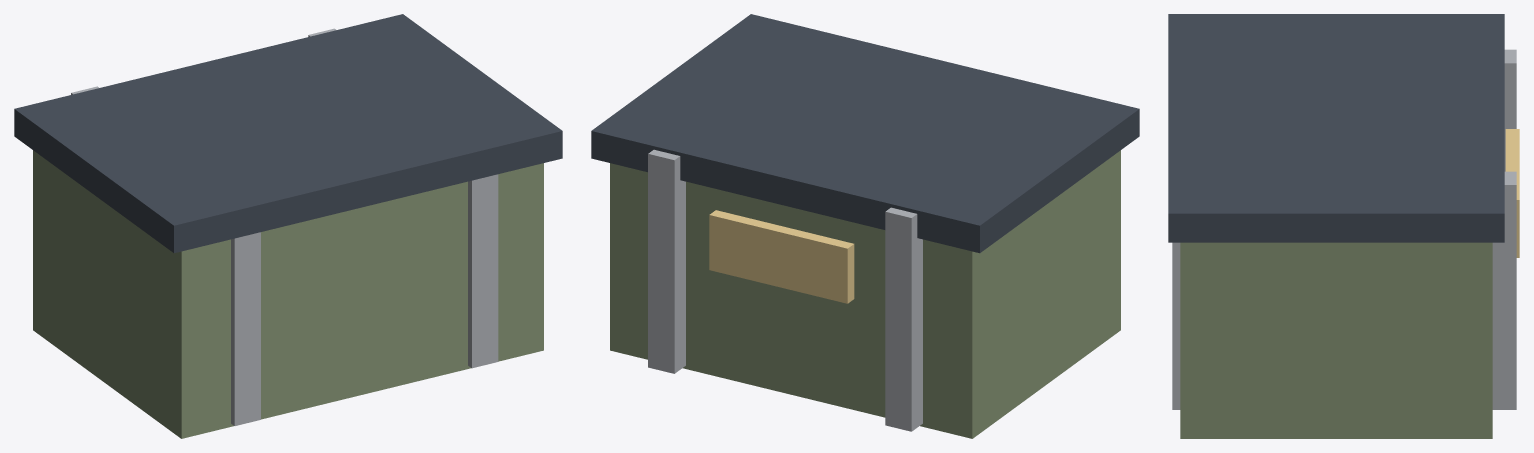
File: loot_crate.glb
3 renders of one model, left to right at view 1: azimuth 30°, elevation 25°; view 2: azimuth 150°, elevation 25°; view 3: azimuth 270°, elevation 25°, orthographic. The views are drawn at different scales.
Visible parts, largest first — view 1: crate_body, crate_lid, right_strap, left_strap; view 2: crate_lid, crate_body, glow_label, left_strap, right_strap; view 3: crate_lid, crate_body, right_strap, left_strap, glow_label.
Part boxes in pixels (x1=…): crate_body: x1=33, y1=150, x2=543, y2=438; crate_lid: x1=14, y1=14, x2=562, y2=253; right_strap: x1=308, y1=28, x2=498, y2=368; left_strap: x1=71, y1=86, x2=260, y2=425; crate_lid: x1=591, y1=14, x2=1139, y2=253; crate_body: x1=610, y1=150, x2=1120, y2=438; glow_label: x1=709, y1=210, x2=854, y2=303; left_strap: x1=885, y1=207, x2=922, y2=431; right_strap: x1=648, y1=149, x2=685, y2=373; crate_lid: x1=1168, y1=14, x2=1504, y2=242; crate_body: x1=1180, y1=242, x2=1492, y2=438; right_strap: x1=1172, y1=171, x2=1516, y2=409; left_strap: x1=1504, y1=49, x2=1516, y2=171; glow_label: x1=1505, y1=129, x2=1519, y2=257.
Bounding box in the file's own units: 1.18 × 0.64 × 0.8775.
